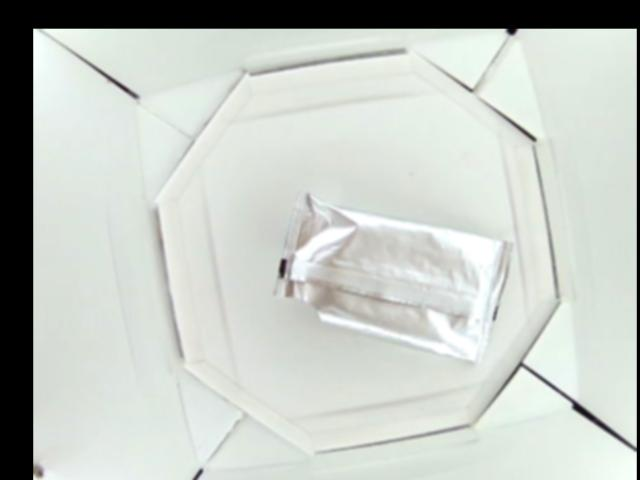Medicine: (270, 190, 510, 364)
